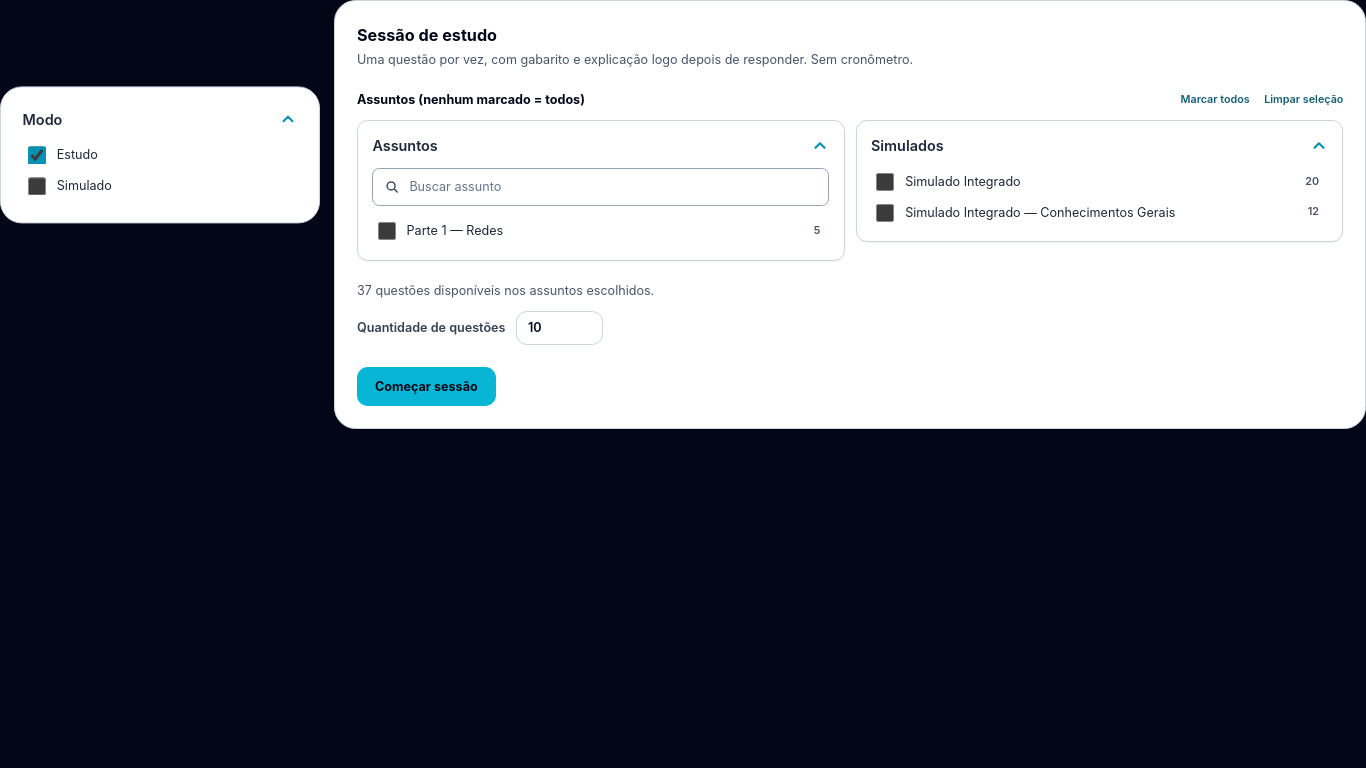
it: PracticeHub › envia sozinho quando o tempo acaba, com as respostas dadas até ali
The image size is (1366, 768).
Click the checkbox labelled "Simulado": [37, 186] box [28,177,46,195]
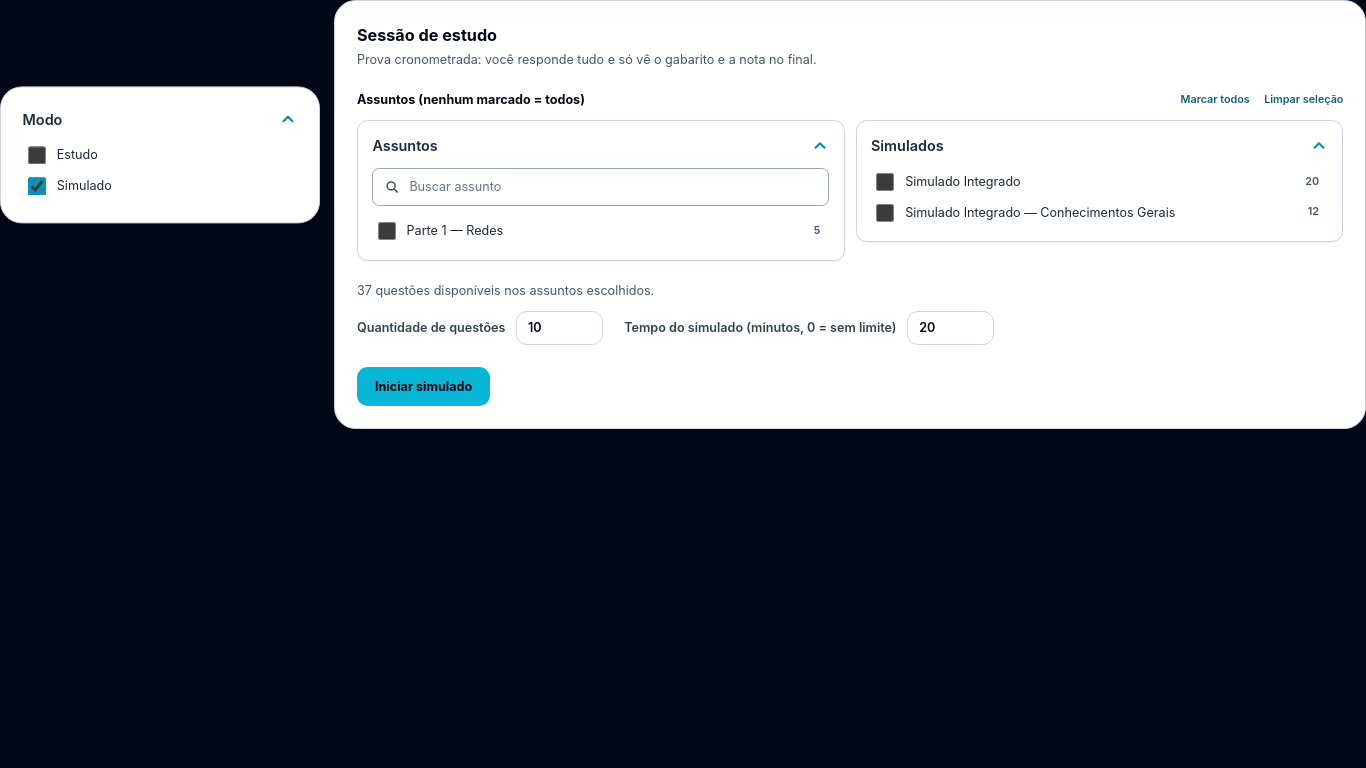
Click the checkbox labelled "Simulado Integrado 20": [885, 182] box [876,173,894,191]
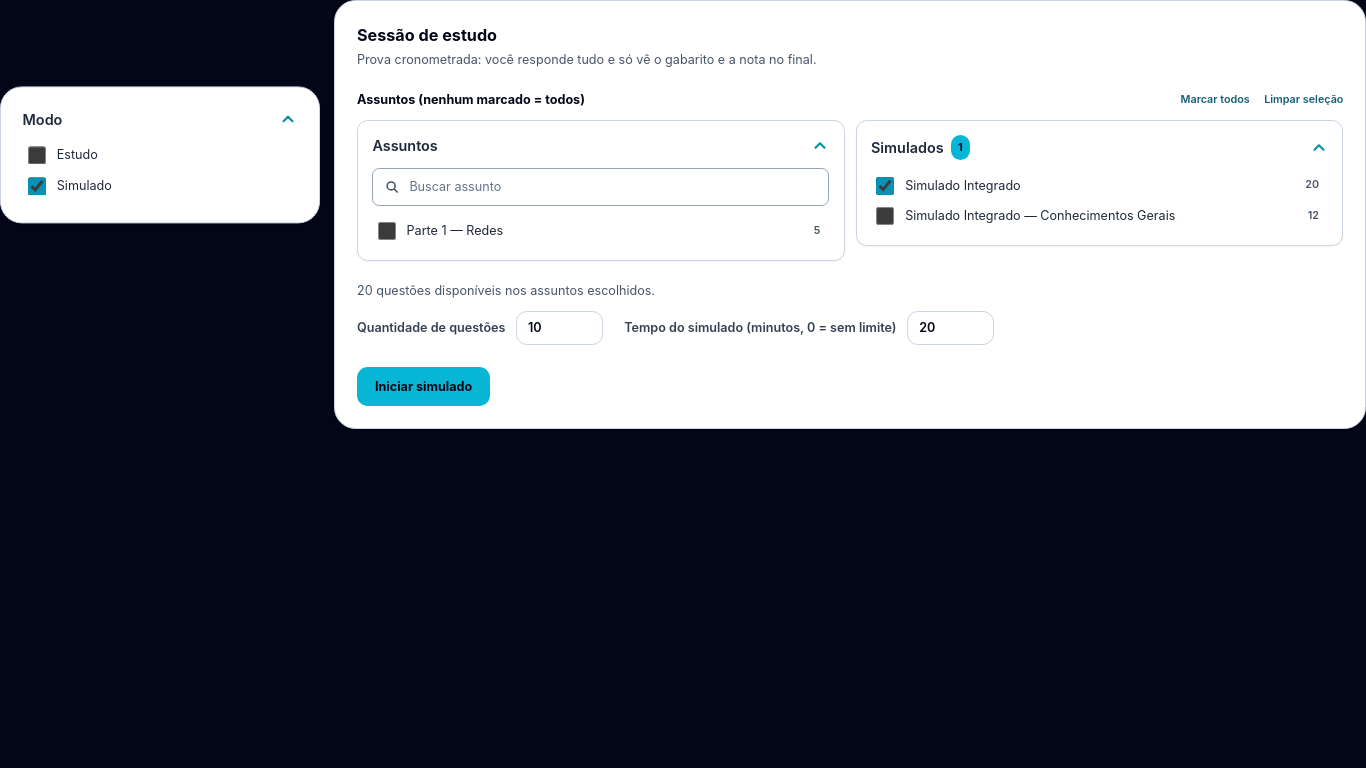
Click the checkbox labelled "Simulado Integrado — Conhecimentos Gerais 12": [885, 216] box [876,207,894,225]
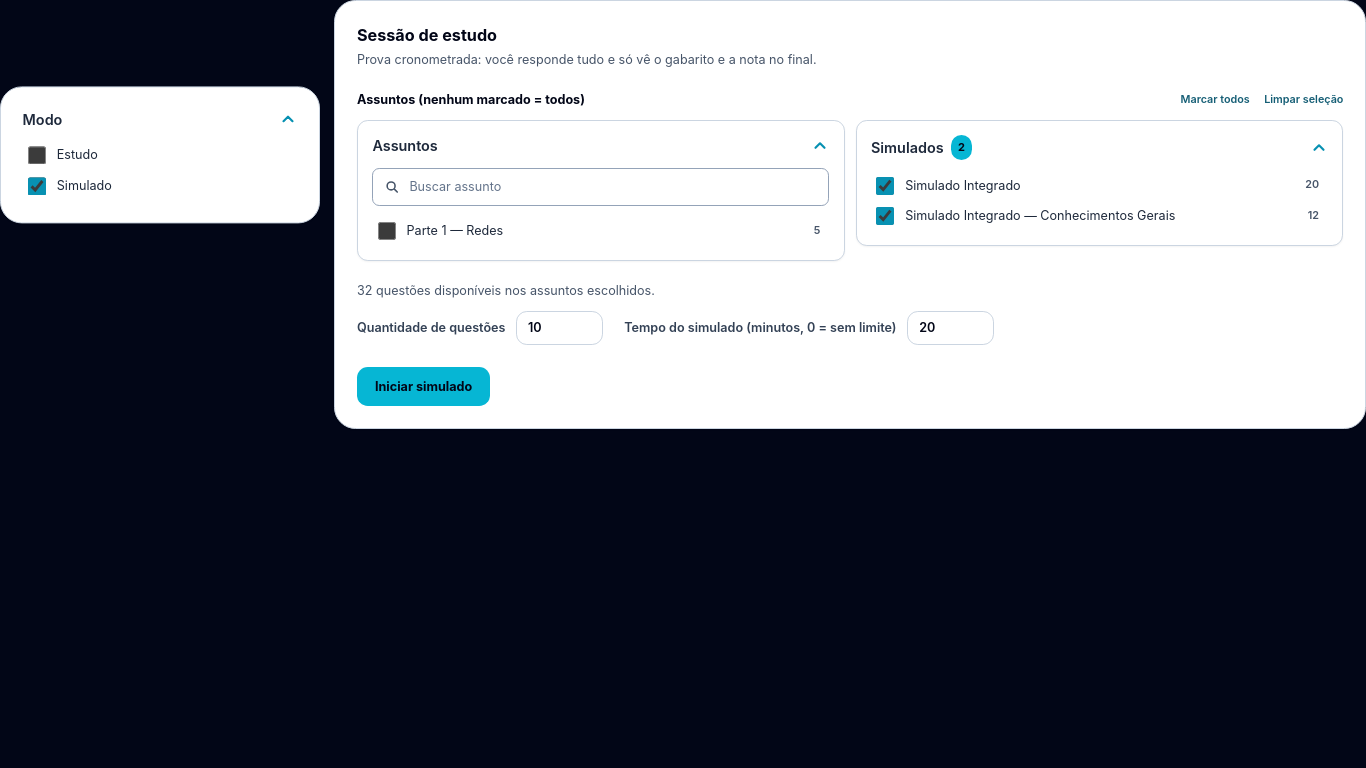
Replace the text in the number field labelled "Tempo do simulado (minutos, 0 = sem limite)" with "1": [950, 328] box [907,311,994,345]
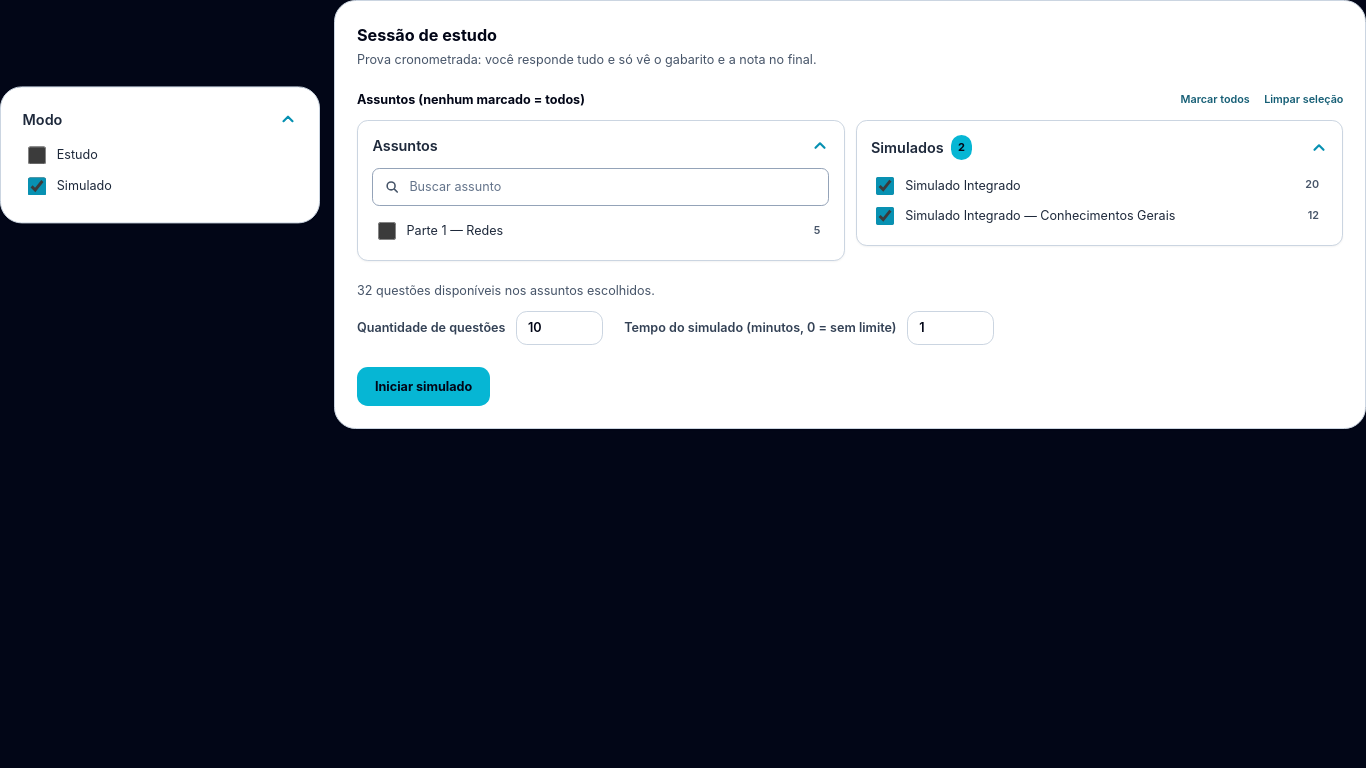
Click the button "Iniciar simulado": [424, 387] box [357,367,490,406]
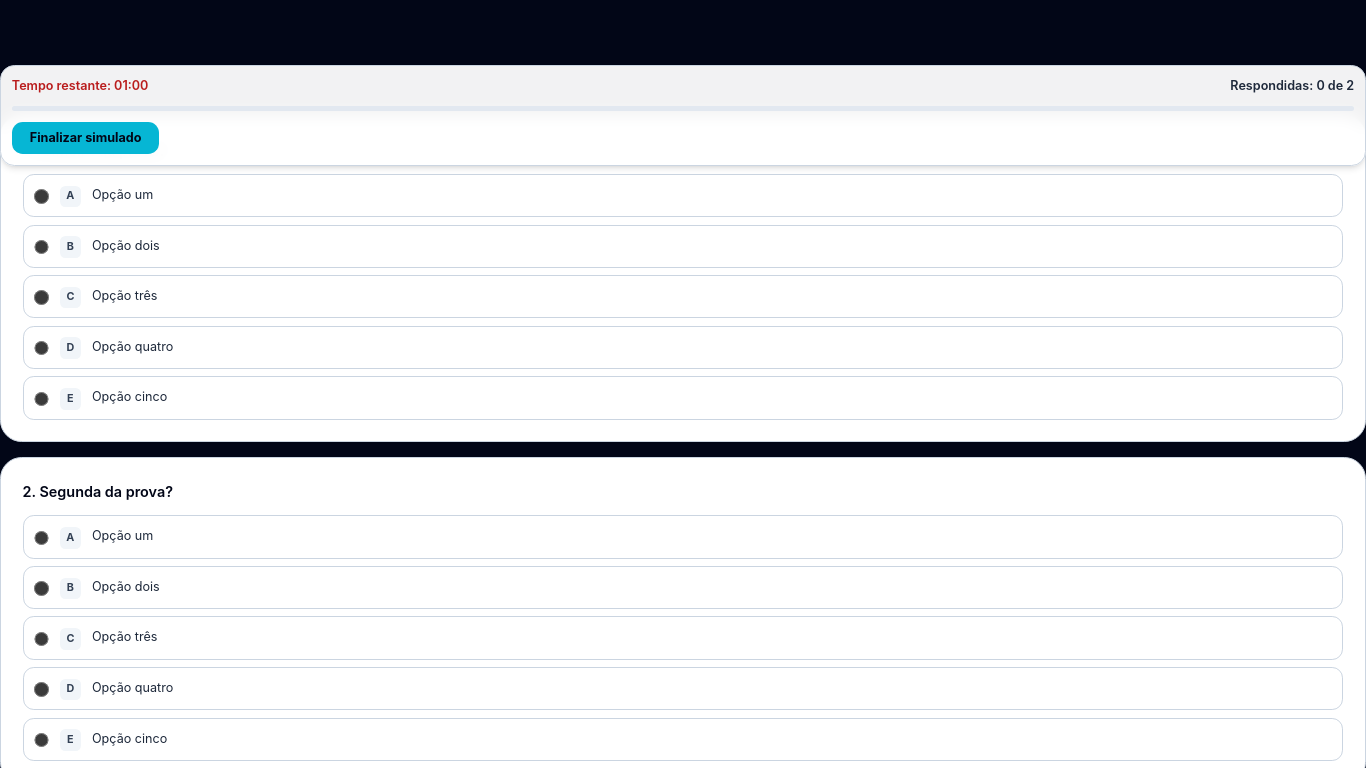
Check: the text "1. Primeira da prova?" is shown, box [23,142,166,159]
Click the radio button labelled "B Opção dois" below "Primeira da prova?": [42, 247] box [34,240,49,254]
Wait 61000 ms
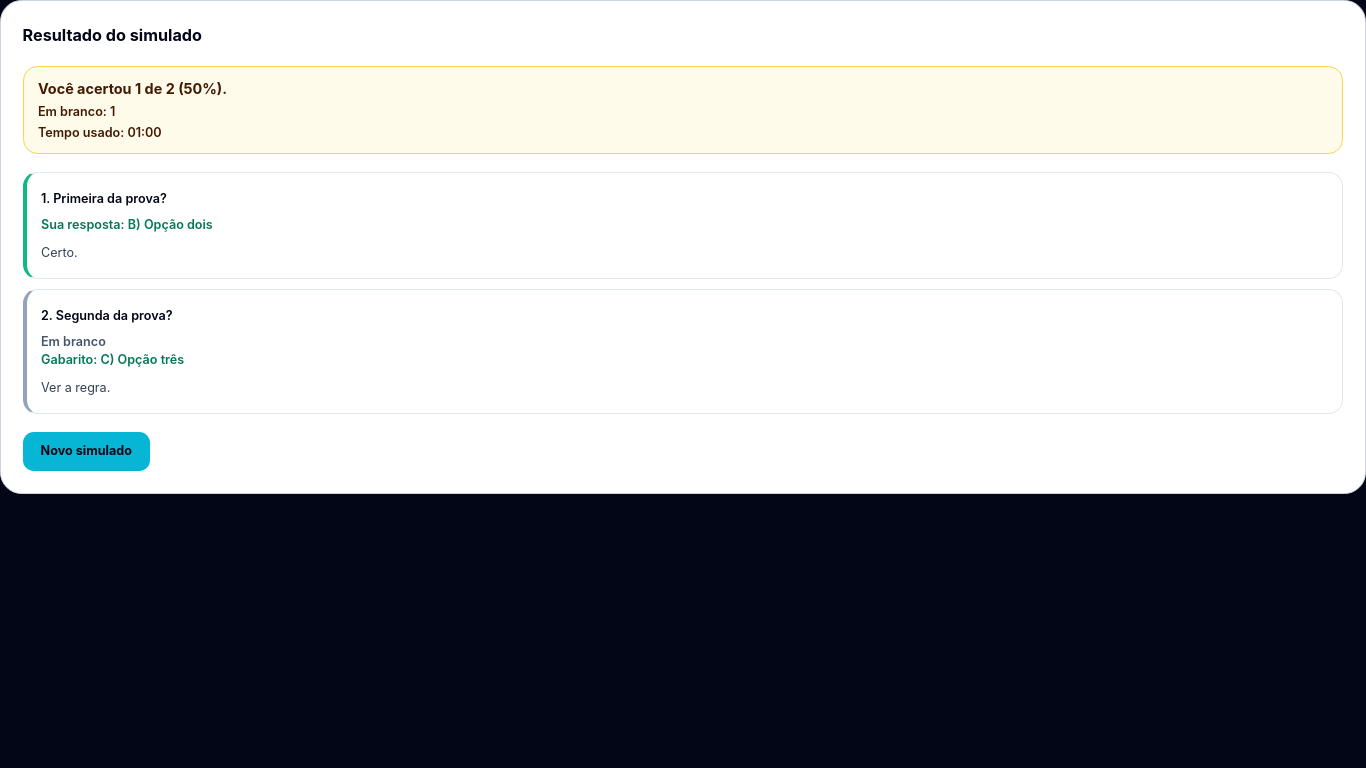
Check: the heading "Resultado do simulado" is shown, box [23,25,202,45]
